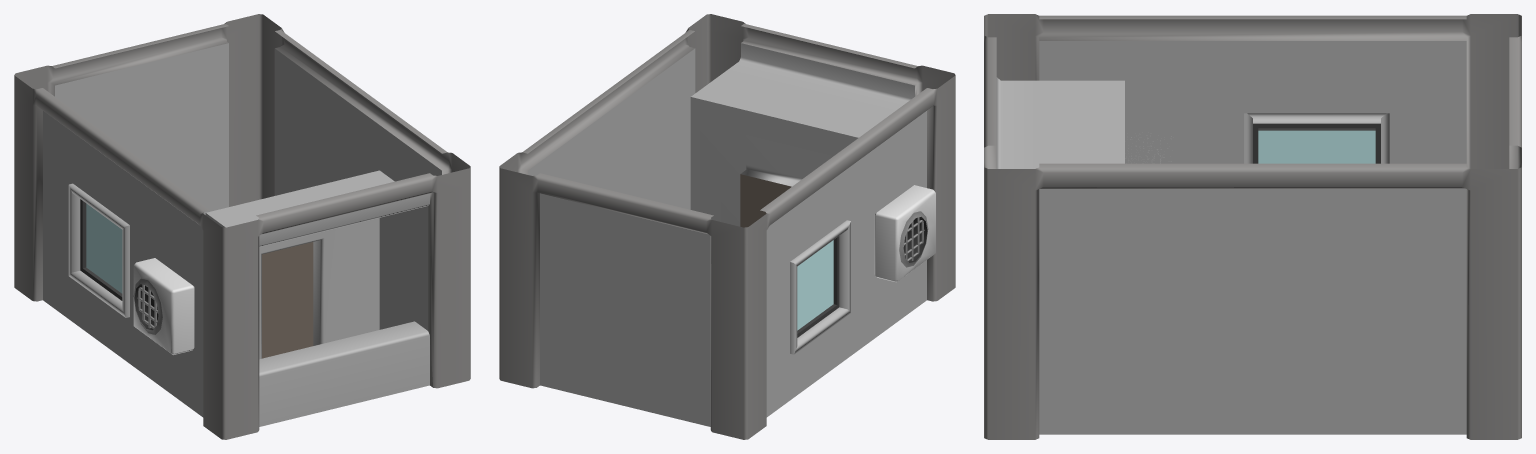
The model's file is Balcony2.fbx.
3 renders of one model, left to right at view 1: azimuth 30°, elevation 25°; view 2: azimuth 150°, elevation 25°; view 3: azimuth 270°, elevation 25°, orthographic. The views are drawn at different scales.
Parts seen in each view (by area): view 1: Balcony2, ACUnit2; view 2: Balcony2, ACUnit2; view 3: Balcony2.
Part boxes in pixels (box(x1,y1,x2,y2)): Balcony2: box(14, 14, 470, 439); ACUnit2: box(133, 258, 194, 354); Balcony2: box(499, 14, 955, 439); ACUnit2: box(874, 185, 935, 282); Balcony2: box(984, 14, 1521, 439).
Size of the model in its own units: 460 by 350 by 629.
